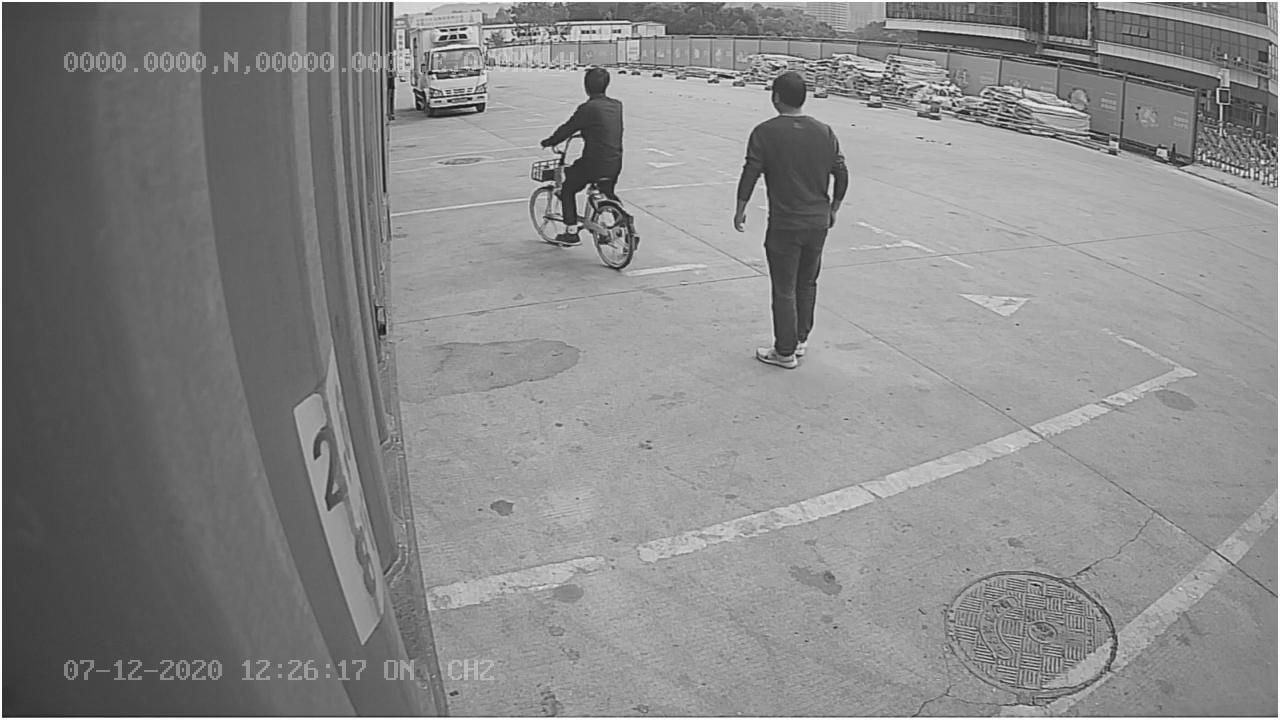person: (729, 67, 855, 376)
